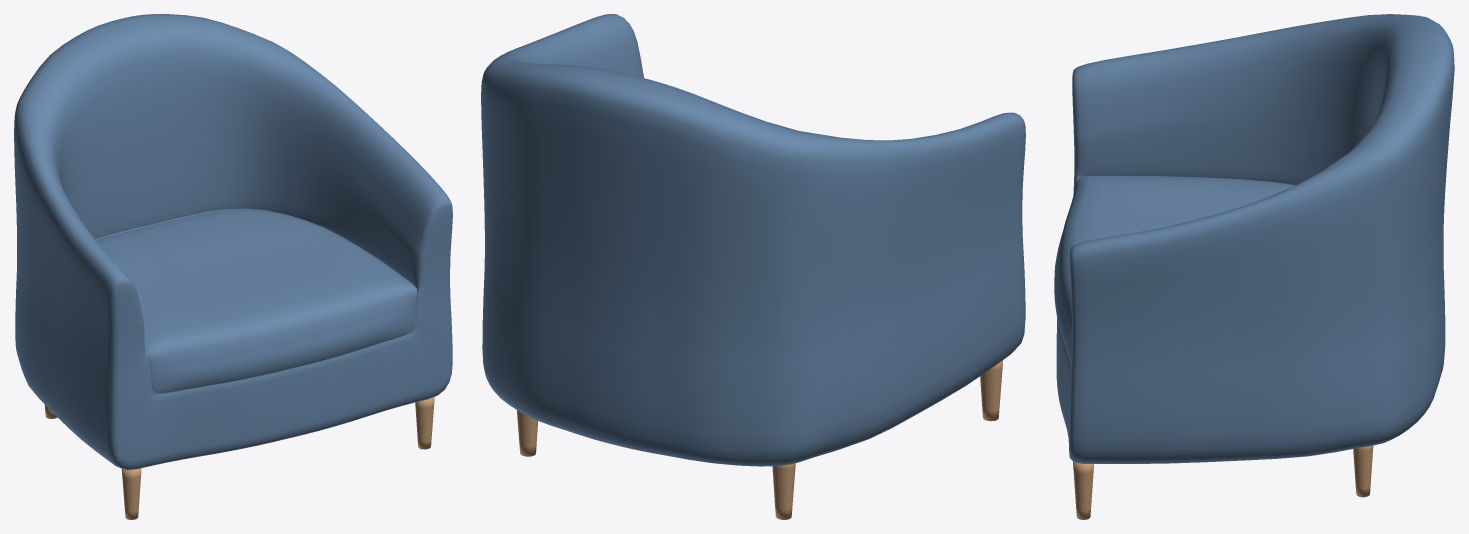
The model's file is sofa1#4.fbx.
3 renders of one model, left to right at view 1: azimuth 30°, elevation 25°; view 2: azimuth 150°, elevation 25°; view 3: azimuth 270°, elevation 25°, orthographic. The views are drawn at different scales.
Parts seen in each view (by area): view 1: Loft02, Object01; view 2: Loft02, Object01; view 3: Loft02, Object01.
Boxes of the visible parts, bbox=[...] form: Loft02: bbox=[14, 14, 452, 470]; Object01: bbox=[44, 397, 434, 519]; Loft02: bbox=[481, 14, 1025, 466]; Object01: bbox=[517, 360, 1003, 519]; Loft02: bbox=[1054, 14, 1454, 463]; Object01: bbox=[1073, 445, 1373, 519].
Size of the model in its own units: 1.99 by 1.92 by 1.78.
